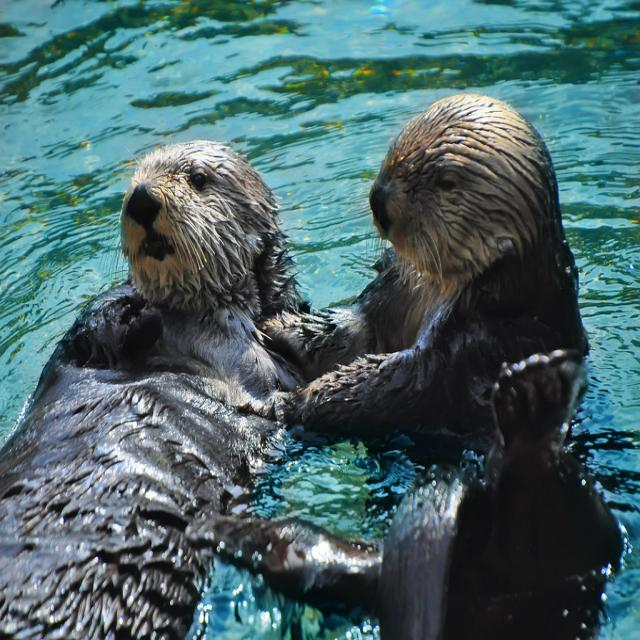otter: (287, 96, 586, 426), (8, 141, 301, 461)
